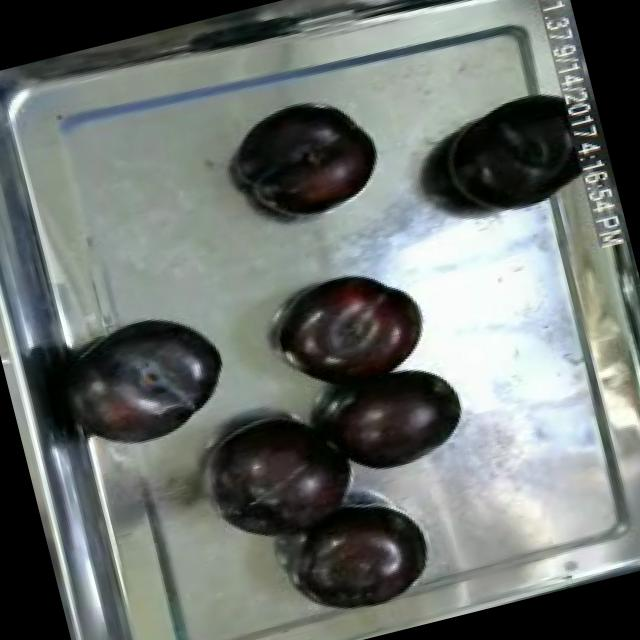Fruit: (54, 292, 242, 458), (199, 394, 373, 558), (263, 250, 439, 401), (224, 82, 392, 234), (423, 82, 591, 232), (285, 486, 442, 625), (322, 356, 476, 484)
